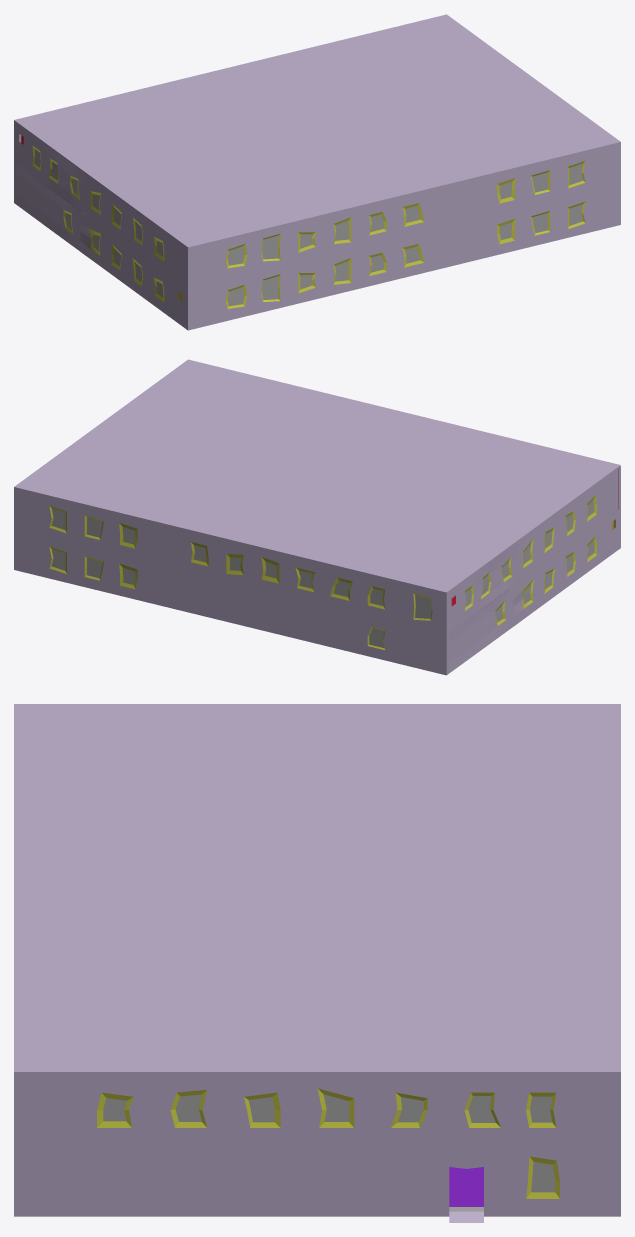
The model's file is SM_SchoolBuilding_3.0.fbx.
3 views of the same model, one above another, from view 1: azimuth 30°, elevation 25°; view 2: azimuth 150°, elevation 25°; view 3: azimuth 270°, elevation 25° (orthographic). The views are drawn at different scales.
Parts seen in each view (by area): view 1: SM_SchoolCeiling_3, SM_SchoolWallEastBottom_3, SM_SchoolWallEastTop_3, SM_SchoolWallSouthBottom_3, SM_SchoolWallSoutTop_3; view 2: SM_SchoolCeiling_3, SM_SchoolWallWestBottom_3, SM_SchoolWallWestTop_3, SM_SchoolWallSouthBottom_3, SM_SchoolWallSoutTop_3; view 3: SM_SchoolCeiling_3, SM_SchoolWallNorthTop_3, SM_SchoolWallNothBottom_3, SM_SchoolSmallWallNorthBottom_3, SM_OutsideDoorFrame_3, SM_HallwayFloor_3, SM_SchoolWallEastBottom_3, SM_SchoolWallWestBottom_3, SM_SchoolWallEastTop_3, SM_SchoolWallWestTop_3.
Boxes of the visible parts, box(x1,y1,x2,y2) form: SM_SchoolCeiling_3: box(14, 14, 620, 248); SM_SchoolWallEastBottom_3: box(185, 184, 620, 330); SM_SchoolWallEastTop_3: box(185, 143, 620, 289); SM_SchoolWallSouthBottom_3: box(16, 164, 185, 327); SM_SchoolWallSoutTop_3: box(16, 124, 185, 287); SM_SchoolCeiling_3: box(14, 359, 620, 593); SM_SchoolWallWestBottom_3: box(14, 529, 449, 675); SM_SchoolWallWestTop_3: box(14, 488, 449, 634); SM_SchoolWallSouthBottom_3: box(449, 509, 618, 672); SM_SchoolWallSoutTop_3: box(449, 469, 617, 632); SM_SchoolCeiling_3: box(14, 704, 620, 1074); SM_SchoolWallNorthTop_3: box(23, 1075, 611, 1145); SM_SchoolWallNothBottom_3: box(23, 1145, 429, 1216); SM_SchoolSmallWallNorthBottom_3: box(502, 1145, 611, 1216); SM_OutsideDoorFrame_3: box(430, 1145, 501, 1222); SM_HallwayFloor_3: box(449, 1167, 483, 1206); SM_SchoolWallEastBottom_3: box(14, 1145, 23, 1216); SM_SchoolWallWestBottom_3: box(611, 1145, 620, 1216); SM_SchoolWallEastTop_3: box(14, 1075, 23, 1145); SM_SchoolWallWestTop_3: box(611, 1075, 620, 1145).
Bounding box in the file's own units: 5663 × 1032 × 3880.
